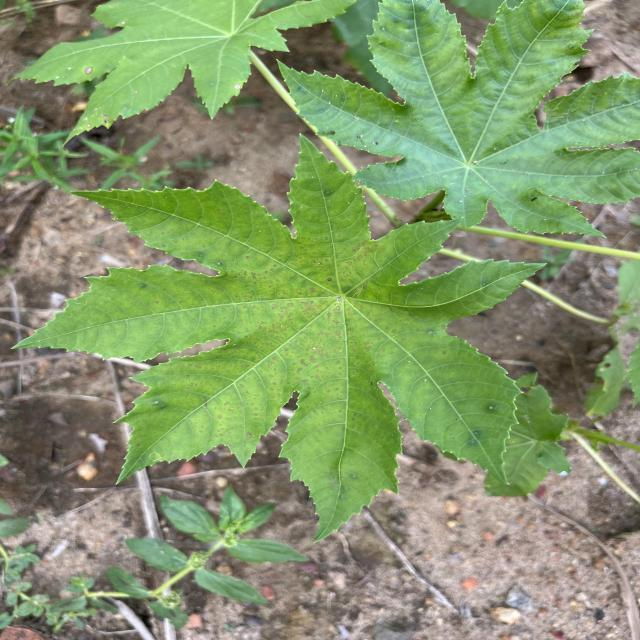Ricinus communis linn: (7, 128, 565, 550)
